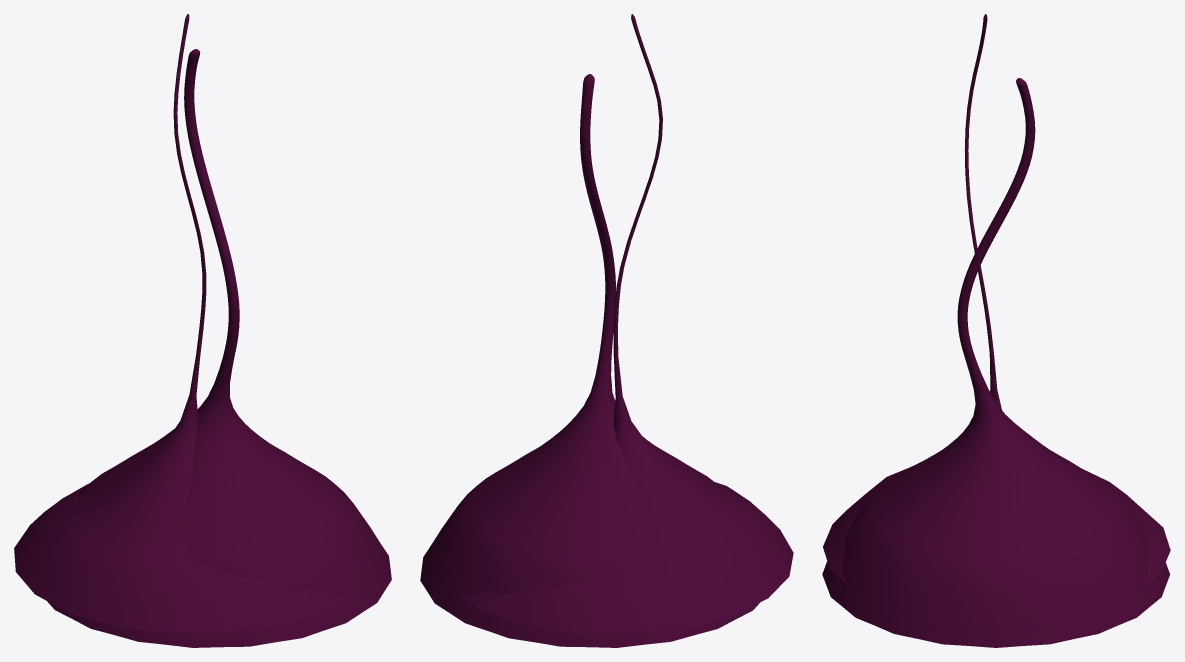
File: Steel_05.fbx
3 views of the same model, side by side, from view 1: azimuth 30°, elevation 25°; view 2: azimuth 150°, elevation 25°; view 3: azimuth 270°, elevation 25° (orthographic). The views are drawn at different scales.
Visible parts, largest first — view 1: pCylinder11, pCylinder12; view 2: pCylinder11, pCylinder12; view 3: pCylinder11, pCylinder12.
Boxes of the visible parts, <box> form: pCylinder11: <box>47,49,391,647</box>; pCylinder12: <box>14,14,357,633</box>; pCylinder11: <box>420,74,759,647</box>; pCylinder12: <box>450,14,793,634</box>; pCylinder11: <box>822,78,1169,647</box>; pCylinder12: <box>823,14,1170,593</box>.
Size of the model in its own units: 4.95 by 8.12 by 4.69.
